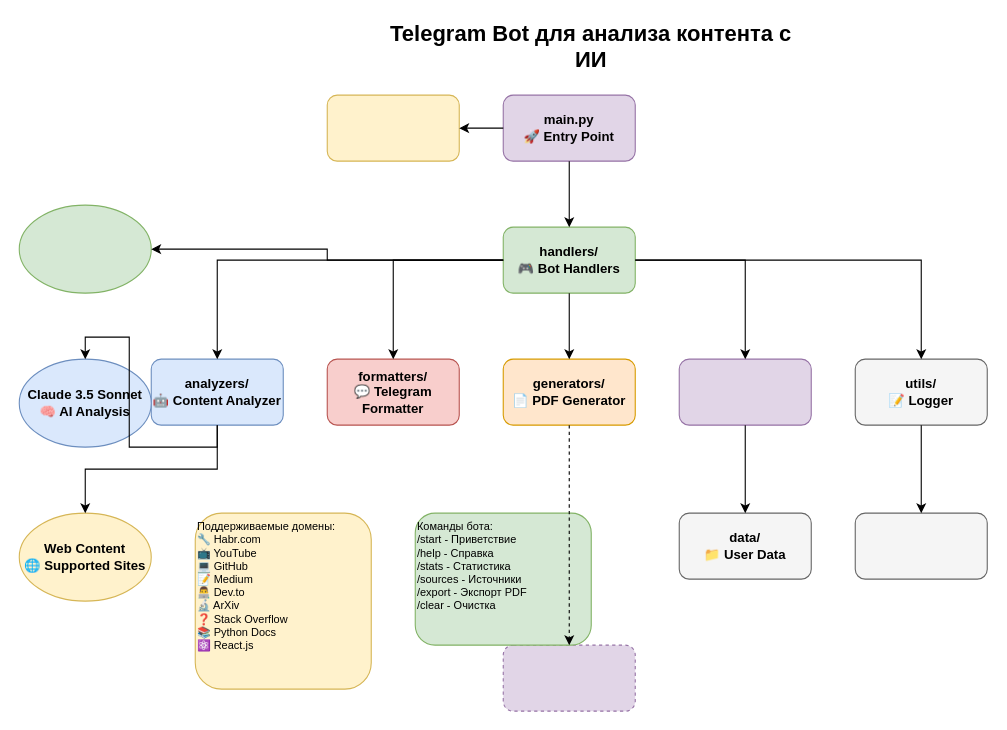
Some shapes in this 1007 by 730 pixel diagram are drawn without their labels. Here are the shapes that lost their labels. From the top down, the box of each, then its label:
(326, 94, 459, 161): config.py ⚙️ Configuration
(18, 204, 151, 293): Telegram Bot API 📱
(678, 358, 811, 425): storage/ 💾 Stats Manager
(854, 512, 987, 579): logs/ 📋 Application Logs
(502, 644, 635, 711): Docker Container 🐳 Deployment
